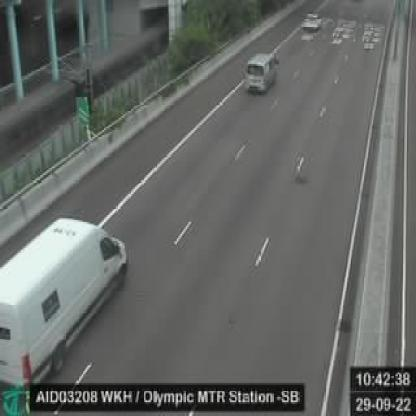Car: (0, 201, 151, 397), (239, 45, 280, 95), (300, 6, 322, 36)
